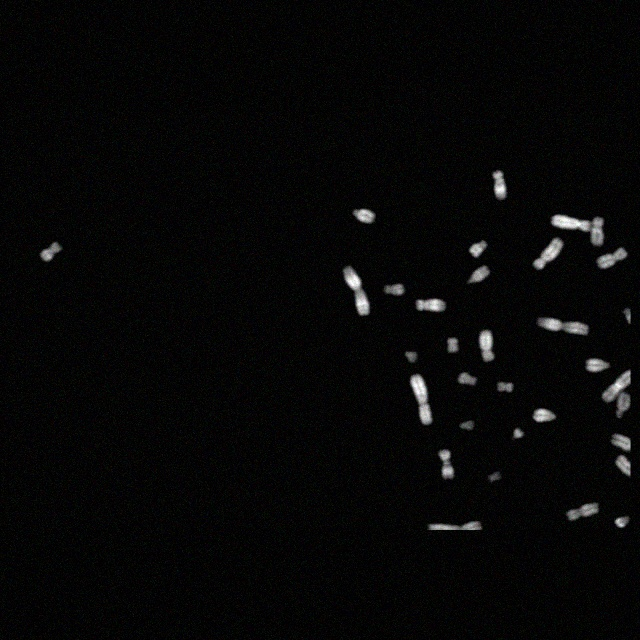chromosome: (342, 266, 370, 316), (410, 372, 432, 426), (534, 236, 564, 270), (538, 316, 588, 336), (603, 368, 631, 402), (550, 214, 592, 232), (596, 248, 628, 270), (568, 502, 598, 522), (438, 449, 456, 479), (466, 266, 492, 286), (492, 170, 508, 200), (416, 297, 446, 313), (479, 331, 495, 361), (585, 356, 611, 374), (352, 206, 376, 224), (40, 242, 61, 262), (616, 392, 630, 418), (611, 432, 631, 450), (592, 217, 604, 245), (533, 409, 557, 423), (616, 452, 630, 476), (469, 240, 487, 258), (384, 284, 406, 296), (458, 373, 476, 387), (488, 469, 502, 483), (616, 514, 630, 528), (512, 426, 524, 442), (448, 336, 458, 354), (459, 420, 476, 430), (404, 350, 418, 362), (498, 383, 514, 393)
